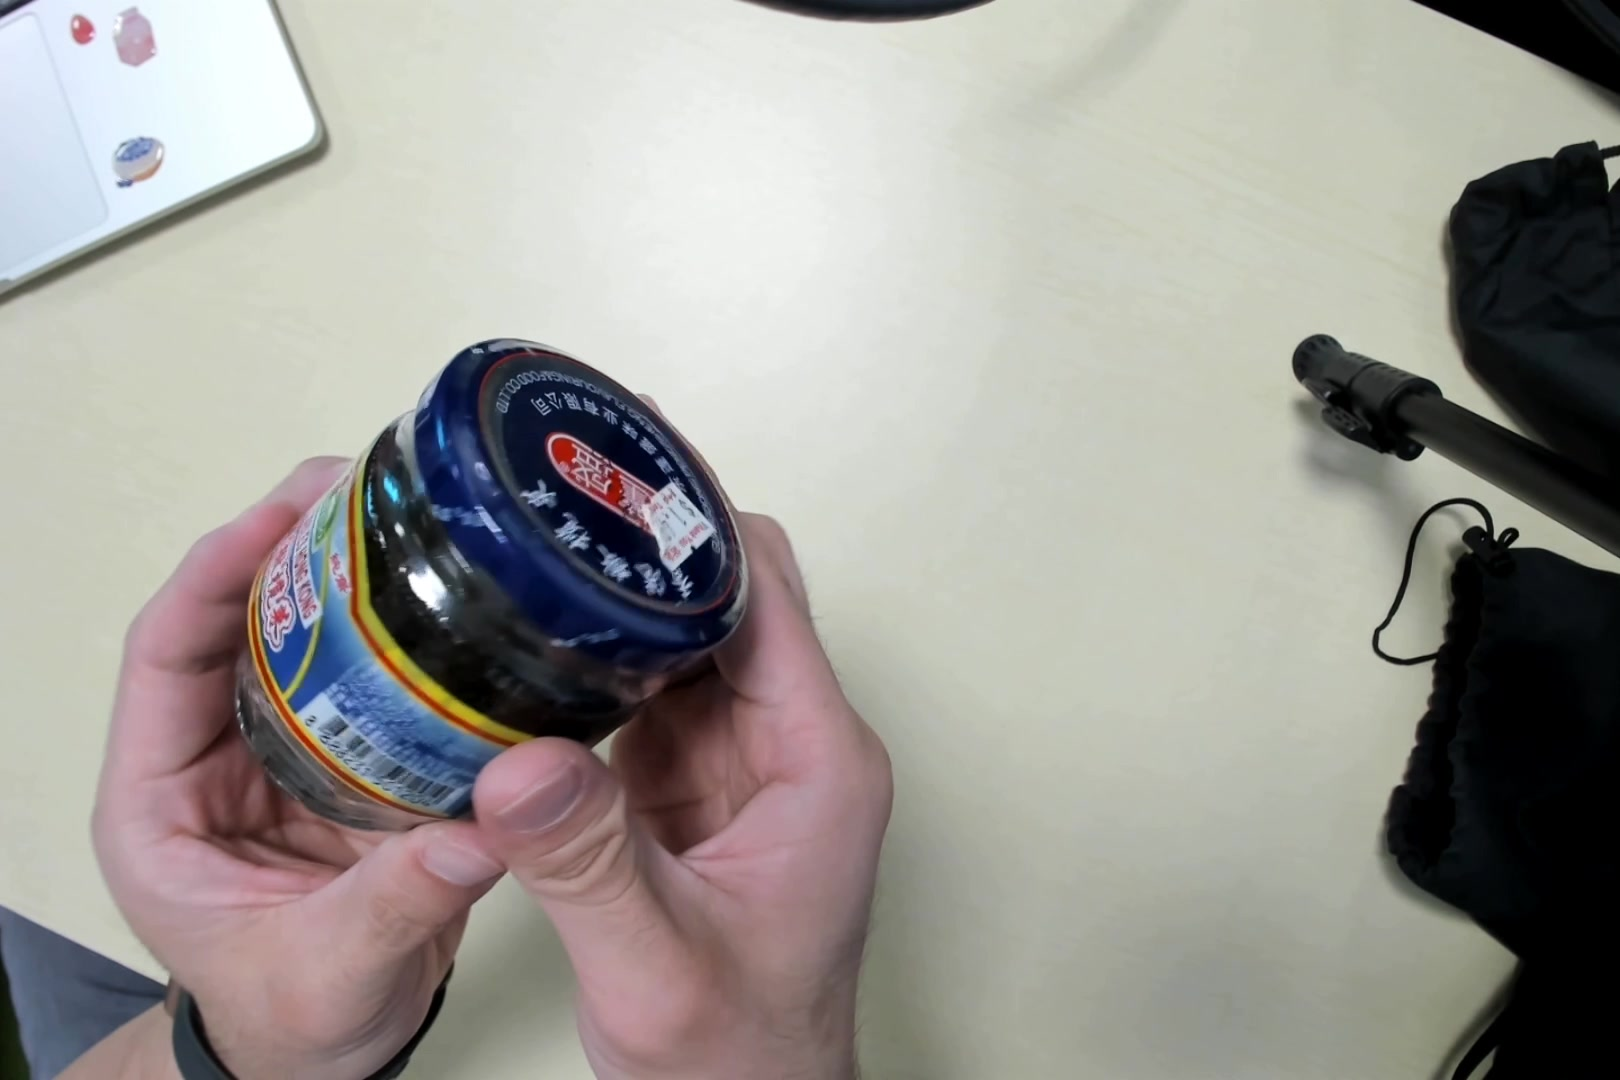OtherCannedVegetables_100-199g_Halal_NonHealthy: (231, 329, 736, 838)
